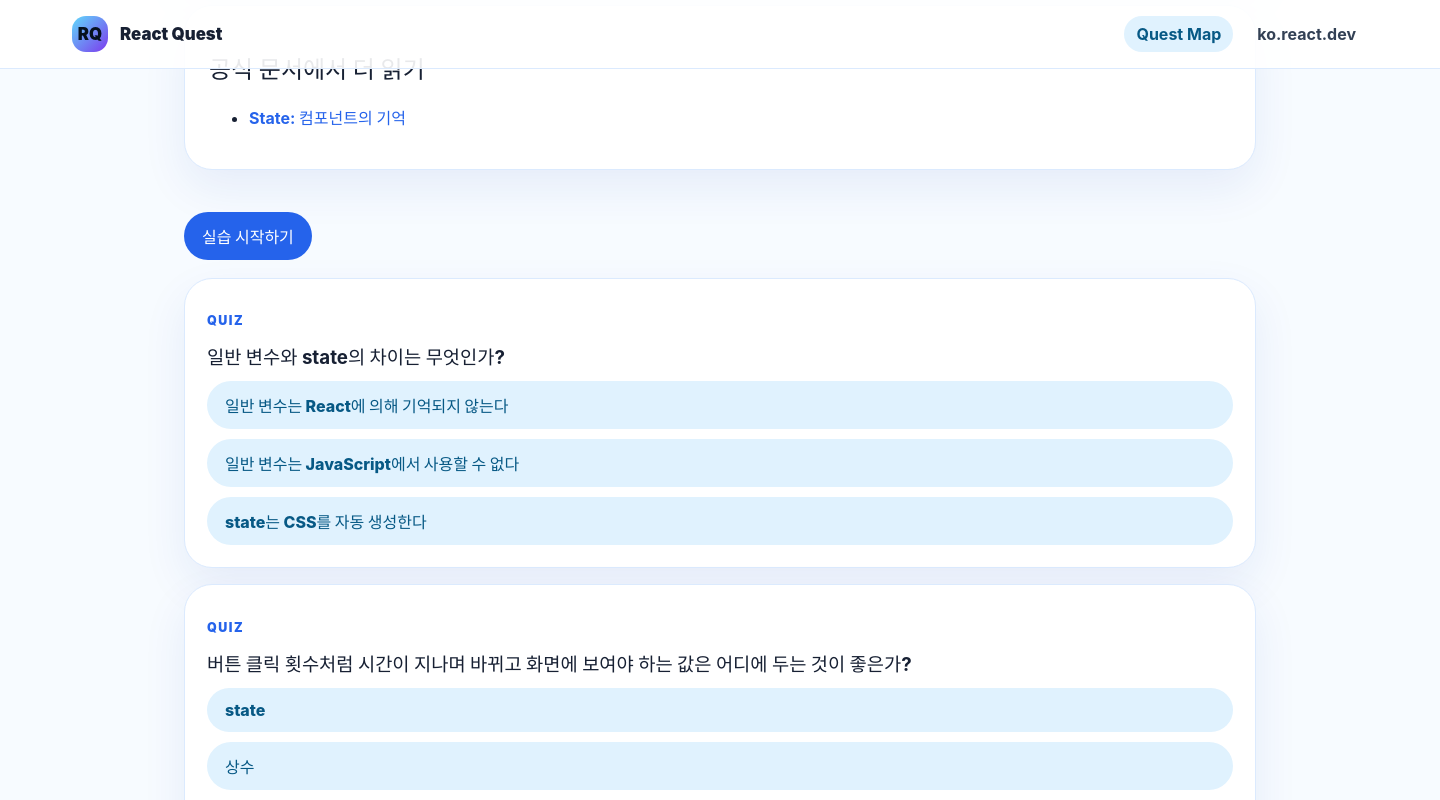
Test: React Quest MVP › checks a quiz answer and persists quiz progress
This screenshot has width=1440, height=800.
(page scrolled)
Click the button "일반 변수는 React에 의해 기억되지 않는다".
click(367, 406)  # box [207,381,1233,429]
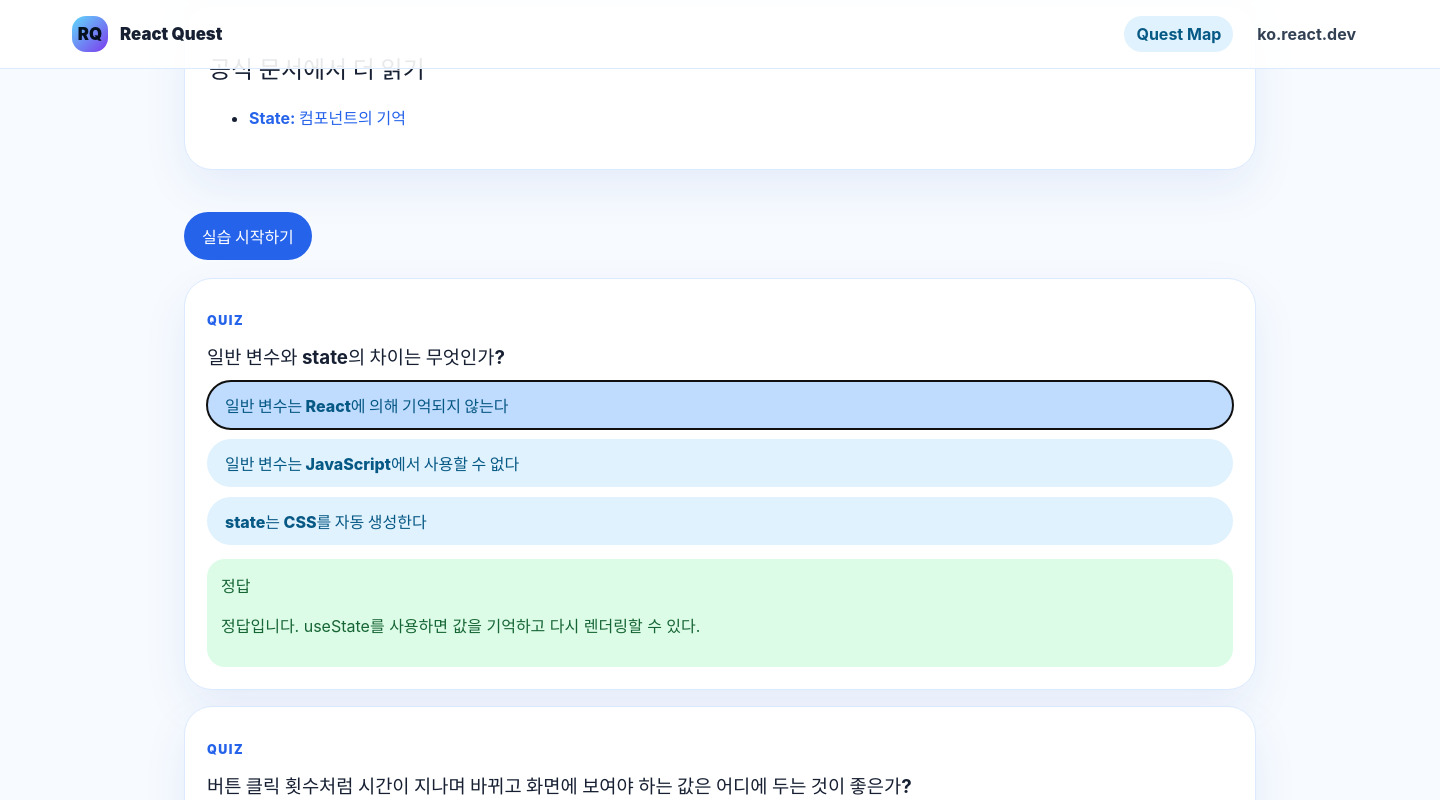
Now the text "정답입니다. useState를 사용하면 값을 기억하고 다시 렌더링할 수 있다." is shown, box [221,616,700,636]
